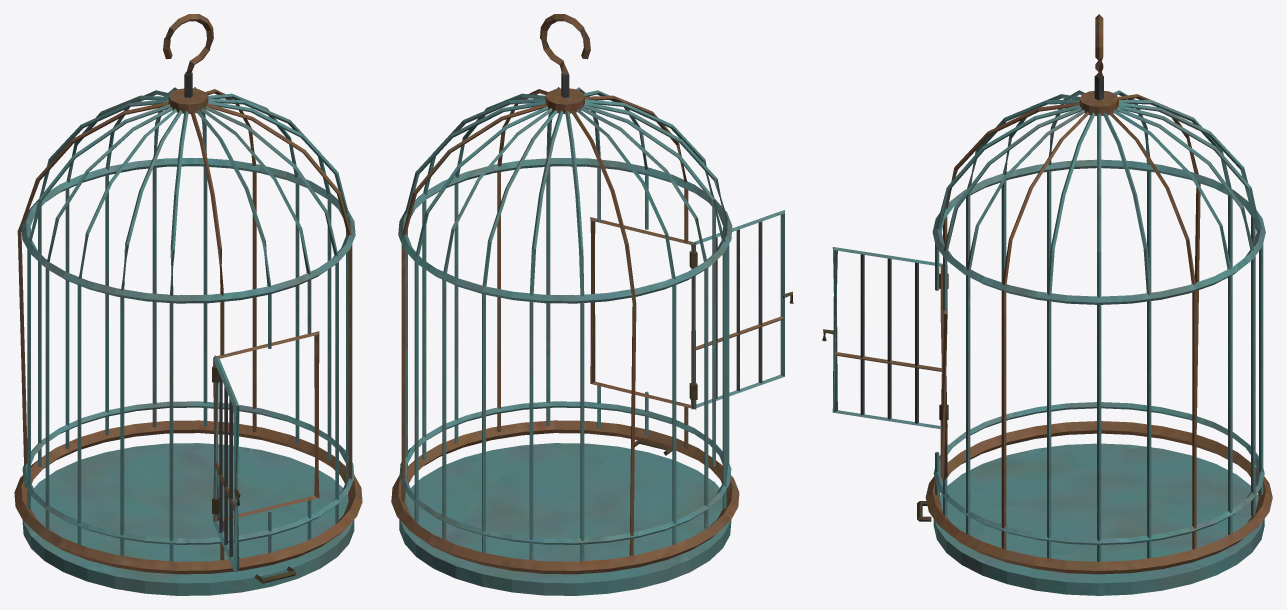
The model's file is L33_empty_birdcage.glb.
3 renders of one model, left to right at view 1: azimuth 30°, elevation 25°; view 2: azimuth 150°, elevation 25°; view 3: azimuth 270°, elevation 25°, orthographic.
Visible parts, largest first — view 1: Stamped tray floor; view 2: Stamped tray floor; view 3: Stamped tray floor.
Boxes of the visible parts, bbox=[...] form: Stamped tray floor: bbox=[14, 14, 362, 595]; Stamped tray floor: bbox=[391, 14, 793, 595]; Stamped tray floor: bbox=[822, 14, 1272, 595].
Size of the model in its own units: 0.309 by 0.5 by 0.401.
4 materials, 4 textured.
